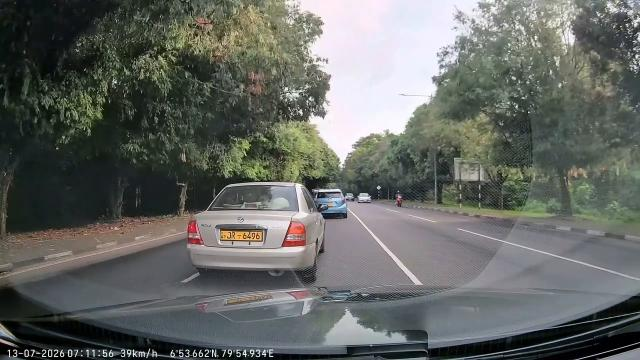number plate: (209, 229, 271, 250)
